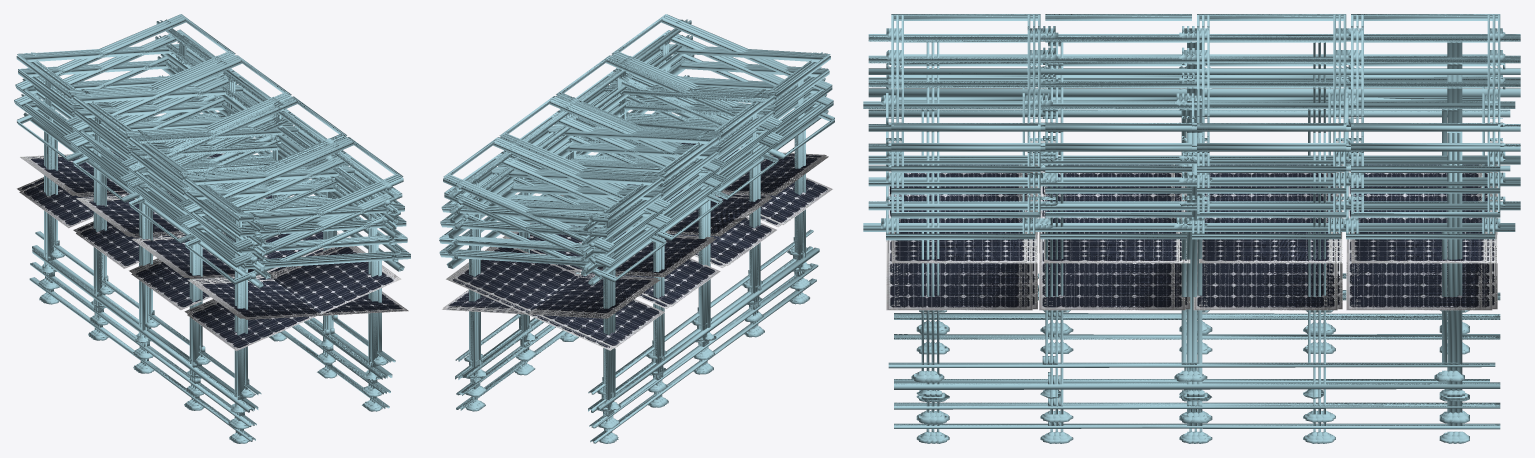
File: gc_gfa.glb
3 views of the same model, side by side, from view 1: azimuth 30°, elevation 25°; view 2: azimuth 150°, elevation 25°; view 3: azimuth 270°, elevation 25° (orthographic). The views are drawn at different scales.
Parts seen in each view (by area): view 1: 支架.071, 板.083, 支架.069, 支架.065, 支架.070, 支架.112, 支架.124, 支架.066, 支架.113, 支架.067, 支架.089, 支架.109 (+13 smaller); view 2: 板.083, 支架.071, 支架.113, 支架.124, 支架.109, 支架.110, 支架.111, 支架.089, 支架.094, 支架.069, 支架.093, 板.108 (+13 smaller); view 3: 板.132, 支架.112, 支架.111, 板.108, 支架.109, 支架.110, 支架.089, 板.083, 支架.092, 板.080, 支架.071, 支架.091 (+14 smaller).
Part boxes in pixels (x1,y1,x2,y2): 支架.071: (17,52,400,412); 板.083: (19,151,398,350); 支架.069: (19,17,403,443); 支架.065: (22,47,404,443); 支架.070: (18,33,402,429); 支架.112: (26,102,410,397); 支架.124: (14,29,397,425); 支架.066: (21,62,406,428); 支架.113: (15,14,399,438); 支架.067: (26,79,407,411); 支架.089: (18,45,402,441); 支架.109: (16,44,400,439); 板.083: (452,143,832,348); 支架.071: (454,51,834,410); 支架.113: (443,17,828,443); 支架.124: (444,33,829,429); 支架.109: (441,46,824,443); 支架.110: (440,62,825,428); 支架.111: (439,79,823,412); 支架.089: (443,45,828,441); 支架.094: (447,31,831,426); 支架.069: (448,14,832,437); 支架.093: (446,15,830,439); 板.108: (442,155,822,317); 板.132: (886,164,1482,310); 支架.112: (863,87,1505,382); 支架.111: (878,65,1520,402); 板.108: (896,164,1492,310); 支架.109: (878,14,1520,443); 支架.110: (878,41,1520,424); 支架.089: (873,14,1515,441); 板.083: (891,232,1487,262); 支架.092: (874,87,1515,382); 板.080: (891,164,1487,310); 支架.071: (868,97,1510,398); 支架.091: (873,63,1515,402).
Bounding box in the file's own units: 153 × 199 × 365.
2 materials, 1 textured.
